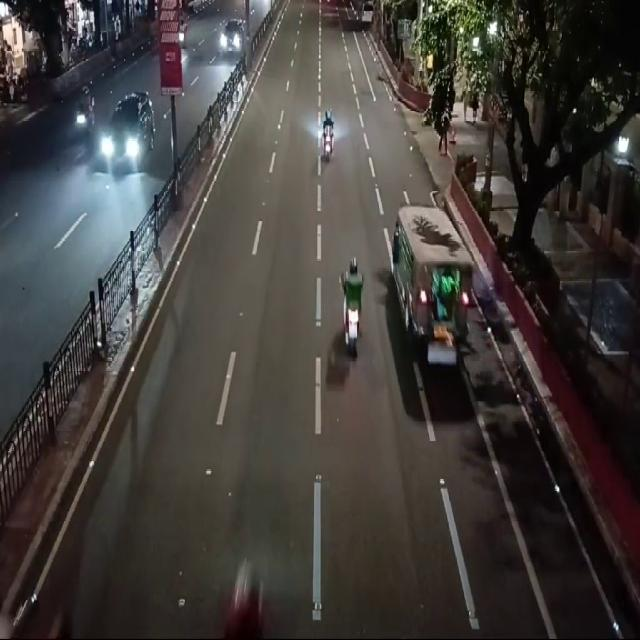car: (100, 94, 156, 177)
jeepney: (389, 199, 480, 386)
motorcycle: (340, 256, 364, 363), (70, 72, 97, 148), (317, 103, 337, 159)
